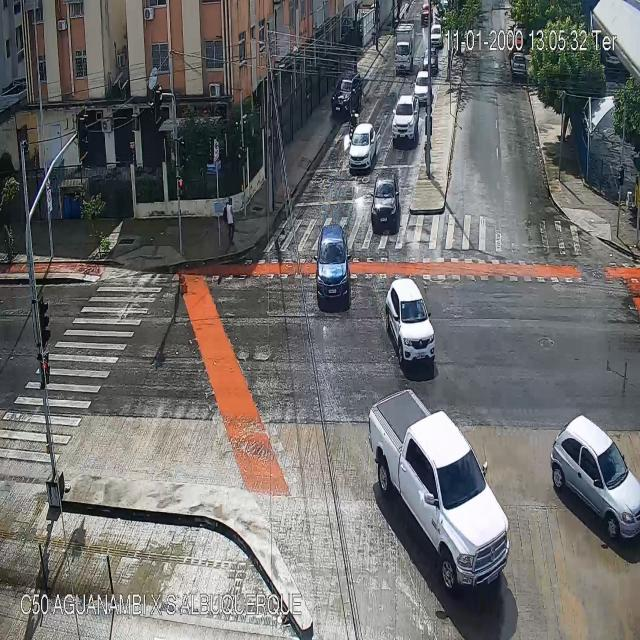Car: (368, 391, 510, 594), (551, 412, 640, 542), (384, 278, 436, 370), (313, 221, 352, 312), (370, 178, 402, 233), (349, 122, 376, 179), (332, 75, 362, 116), (392, 96, 418, 143), (413, 69, 429, 105), (421, 49, 437, 81), (512, 55, 526, 74), (431, 24, 441, 48), (421, 2, 428, 31)
Truck: (393, 24, 413, 79)
